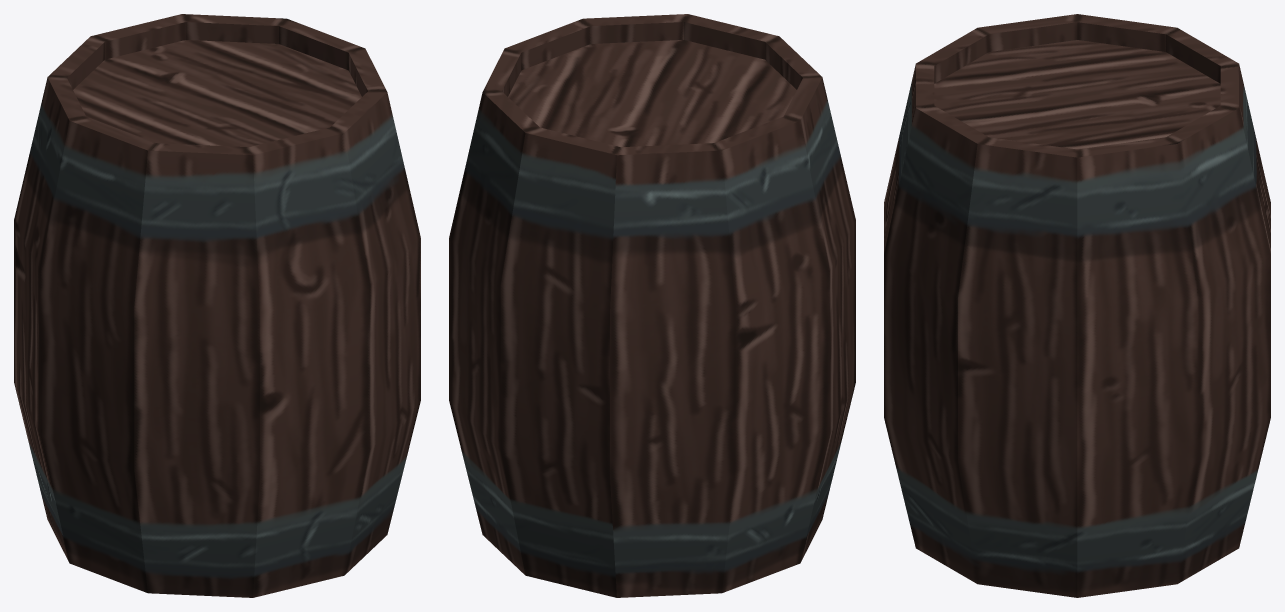
File: Barrel_environment.fbx
3 renders of one model, left to right at view 1: azimuth 30°, elevation 25°; view 2: azimuth 150°, elevation 25°; view 3: azimuth 270°, elevation 25°, orthographic.
Parts seen in each view (by area): view 1: pasted__pCylinder4; view 2: pasted__pCylinder4; view 3: pasted__pCylinder4.
Part boxes in pixels (left/top/right/bottom): pasted__pCylinder4: left=14, top=14, right=420, bottom=597; pasted__pCylinder4: left=449, top=14, right=855, bottom=597; pasted__pCylinder4: left=884, top=14, right=1270, bottom=597.
Size of the model in its own units: 0.5846 by 0.6984 by 0.556.
Materials: 1 (1 with a texture image).
